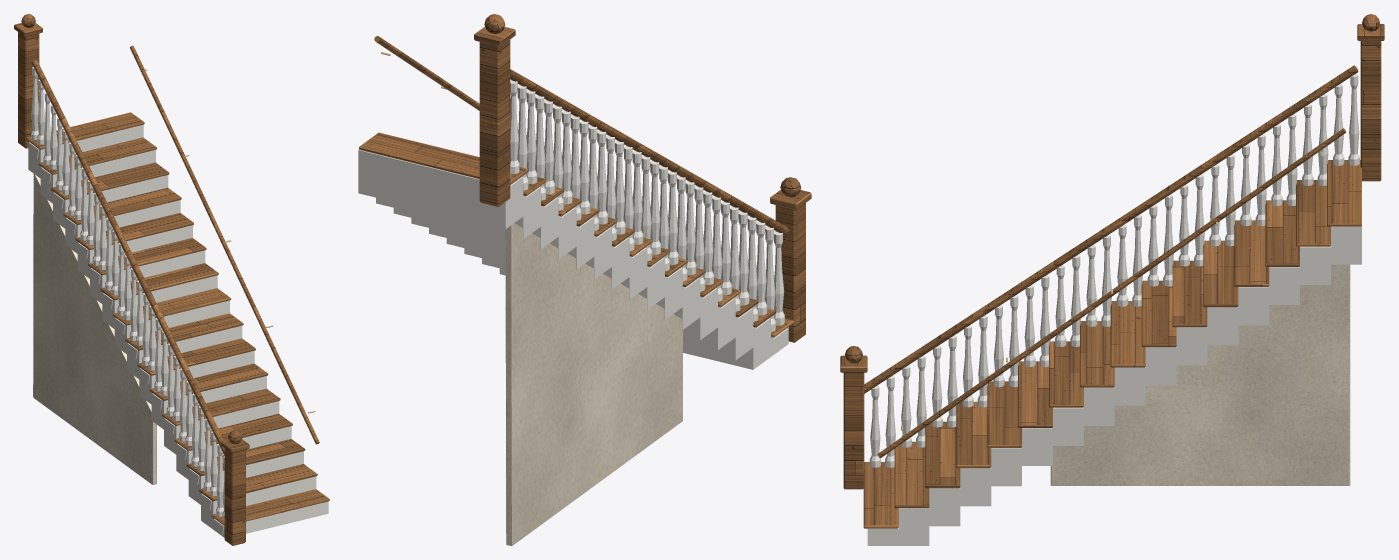
Rendered from stair.glb.
3 views of the same model, side by side, from view 1: azimuth 30°, elevation 25°; view 2: azimuth 150°, elevation 25°; view 3: azimuth 270°, elevation 25° (orthographic). The views are drawn at different scales.
Parts seen in each view (by area): view 1: stair_trim, stair_oak, stair_plaster; view 2: stair_trim, stair_plaster, stair_oak; view 3: stair_oak, stair_trim, stair_plaster.
Boxes of the visible parts, box(x1,y1,x2,y2) form: stair_trim: box(28, 67, 328, 537); stair_oak: box(14, 14, 329, 545); stair_plaster: box(33, 174, 156, 484); stair_trim: box(358, 80, 788, 369); stair_plaster: box(505, 223, 682, 545); stair_oak: box(359, 14, 811, 342); stair_oak: box(840, 14, 1384, 528); stair_trim: box(867, 74, 1361, 545); stair_plaster: box(1050, 264, 1350, 485).
Bounding box in the file's own units: 1.37 × 4.54 × 4.76.
4 materials, 2 textured.
